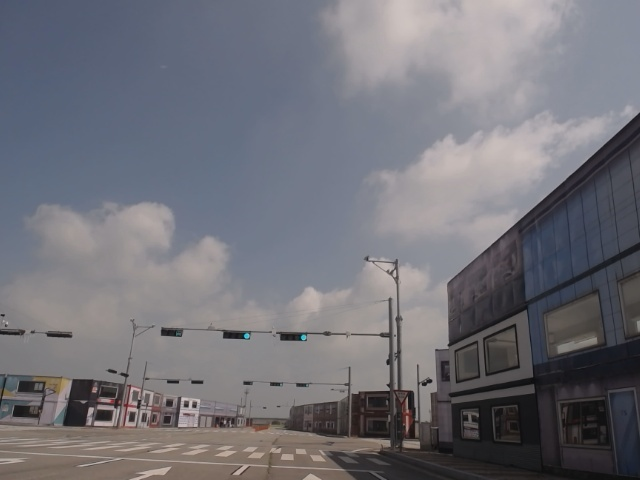straight_green_4: (279, 330, 308, 342), (224, 329, 252, 340)
